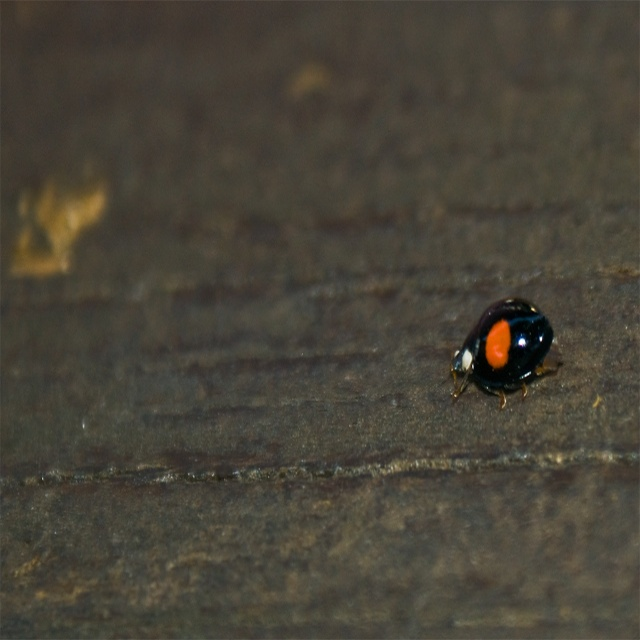Ladybug: (446, 298, 560, 415)
